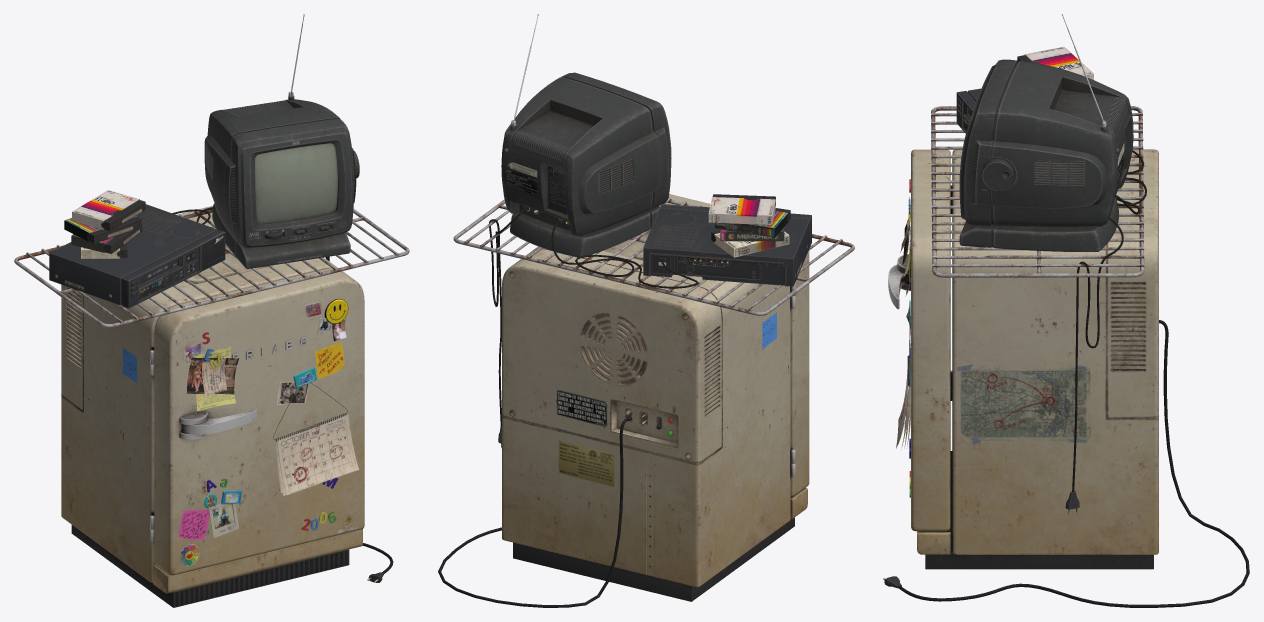
Rendered from Fridge.glb.
The picture shows the model from 3 angles, left to right: view 1: azimuth 30°, elevation 25°; view 2: azimuth 150°, elevation 25°; view 3: azimuth 270°, elevation 25°; orthographic projection. The views are drawn at different scales.
Visible parts, largest first — view 1: FridgeDoor_low, FridgeBody_low, TvBody_low_04 - Default_0, VhsBody_low, TvScreen_low_04 - Default_0, FridgeRack_low, FridgeCalendarPapers_low, FridgePapers_low, fridgeBottomStraight_low, FridgeBottomCurved_low_Wall Paint_0, TvBottom_low, VhsFront_low (+8 smaller); view 2: FridgeBody_low, TvBody_low_04 - Default_0, VhsBody_low, TvSides_low, FridgeRack_low, FridgeDoor_low, fridgeBottomStraight_low, Wires_low, TvBottom_low, VhsBoxes2_low, VhsBoxes_low, VhsBoxes3_low (+1 smaller); view 3: FridgeBody_low, TvBody_low_04 - Default_0, FridgeDoor_low, TvSides_low, FridgeRack_low, Wires_low, TvBottom_low, fridgeBottomStraight_low, VhsBoxes2_low, TvSideButton_low, FridgeBottomCurved_low_Wall Paint_0, FridgePull_low (+1 smaller).
Part boxes in pixels (x1,y1,x2,y2): FridgeDoor_low: [154, 268, 364, 575]; FridgeBody_low: [61, 206, 338, 582]; TvBody_low_04 - Default_0: [207, 95, 354, 247]; VhsBody_low: [49, 204, 217, 305]; TvScreen_low_04 - Default_0: [255, 143, 337, 223]; FridgeRack_low: [14, 207, 409, 327]; FridgeCalendarPapers_low: [275, 414, 359, 495]; FridgePapers_low: [186, 318, 346, 538]; fridgeBottomStraight_low: [71, 525, 349, 607]; FridgeBottomCurved_low_Wall Paint_0: [153, 529, 362, 593]; TvBottom_low: [212, 203, 350, 268]; VhsFront_low: [121, 229, 223, 308]; FridgeBody_low: [502, 231, 790, 587]; TvBody_low_04 - Default_0: [501, 72, 671, 236]; VhsBody_low: [643, 208, 809, 286]; TvSides_low: [579, 127, 668, 214]; FridgeRack_low: [453, 197, 854, 315]; FridgeDoor_low: [665, 194, 809, 496]; fridgeBottomStraight_low: [513, 517, 794, 601]; Wires_low: [438, 206, 698, 607]; TvBottom_low: [510, 206, 659, 257]; VhsBoxes2_low: [708, 197, 775, 224]; VhsBoxes_low: [714, 231, 789, 257]; VhsBoxes3_low: [715, 211, 788, 237]; FridgeBody_low: [952, 149, 1158, 554]; TvBody_low_04 - Default_0: [959, 59, 1133, 227]; FridgeDoor_low: [911, 149, 950, 531]; TvSides_low: [972, 140, 1107, 208]; FridgeRack_low: [931, 106, 1144, 277]; Wires_low: [898, 150, 1249, 607]; TvBottom_low: [959, 197, 1118, 251]; fridgeBottomStraight_low: [925, 451, 1153, 569]; VhsBoxes2_low: [1024, 46, 1093, 79]; TvSideButton_low: [982, 159, 1014, 190]; FridgeBottomCurved_low_Wall Paint_0: [917, 528, 950, 554]; FridgePull_low: [888, 254, 910, 309].
Bounding box in the file's own units: 92.49 × 146 × 84.6.
4 materials, 4 textured.
